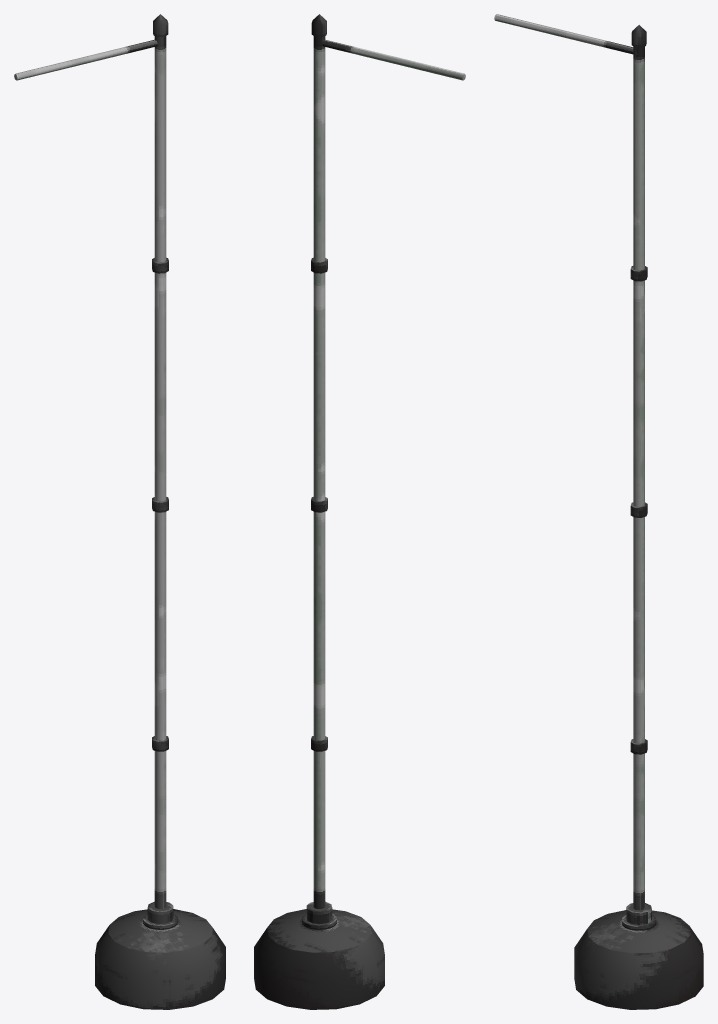
File: nobori_pole.glb
3 views of the same model, side by side, from view 1: azimuth 30°, elevation 25°; view 2: azimuth 150°, elevation 25°; view 3: azimuth 330°, elevation 25° (orthographic).
Visible parts, largest first — view 1: mesh; view 2: mesh; view 3: mesh.
Part boxes in pixels (<box>): mesh: <box>14,14,225,1009</box>; mesh: <box>254,14,465,1009</box>; mesh: <box>494,14,703,1009</box>.
Bounding box in the file's own units: 0.5301 × 2.43 × 0.2999.
1 material, 1 textured.
